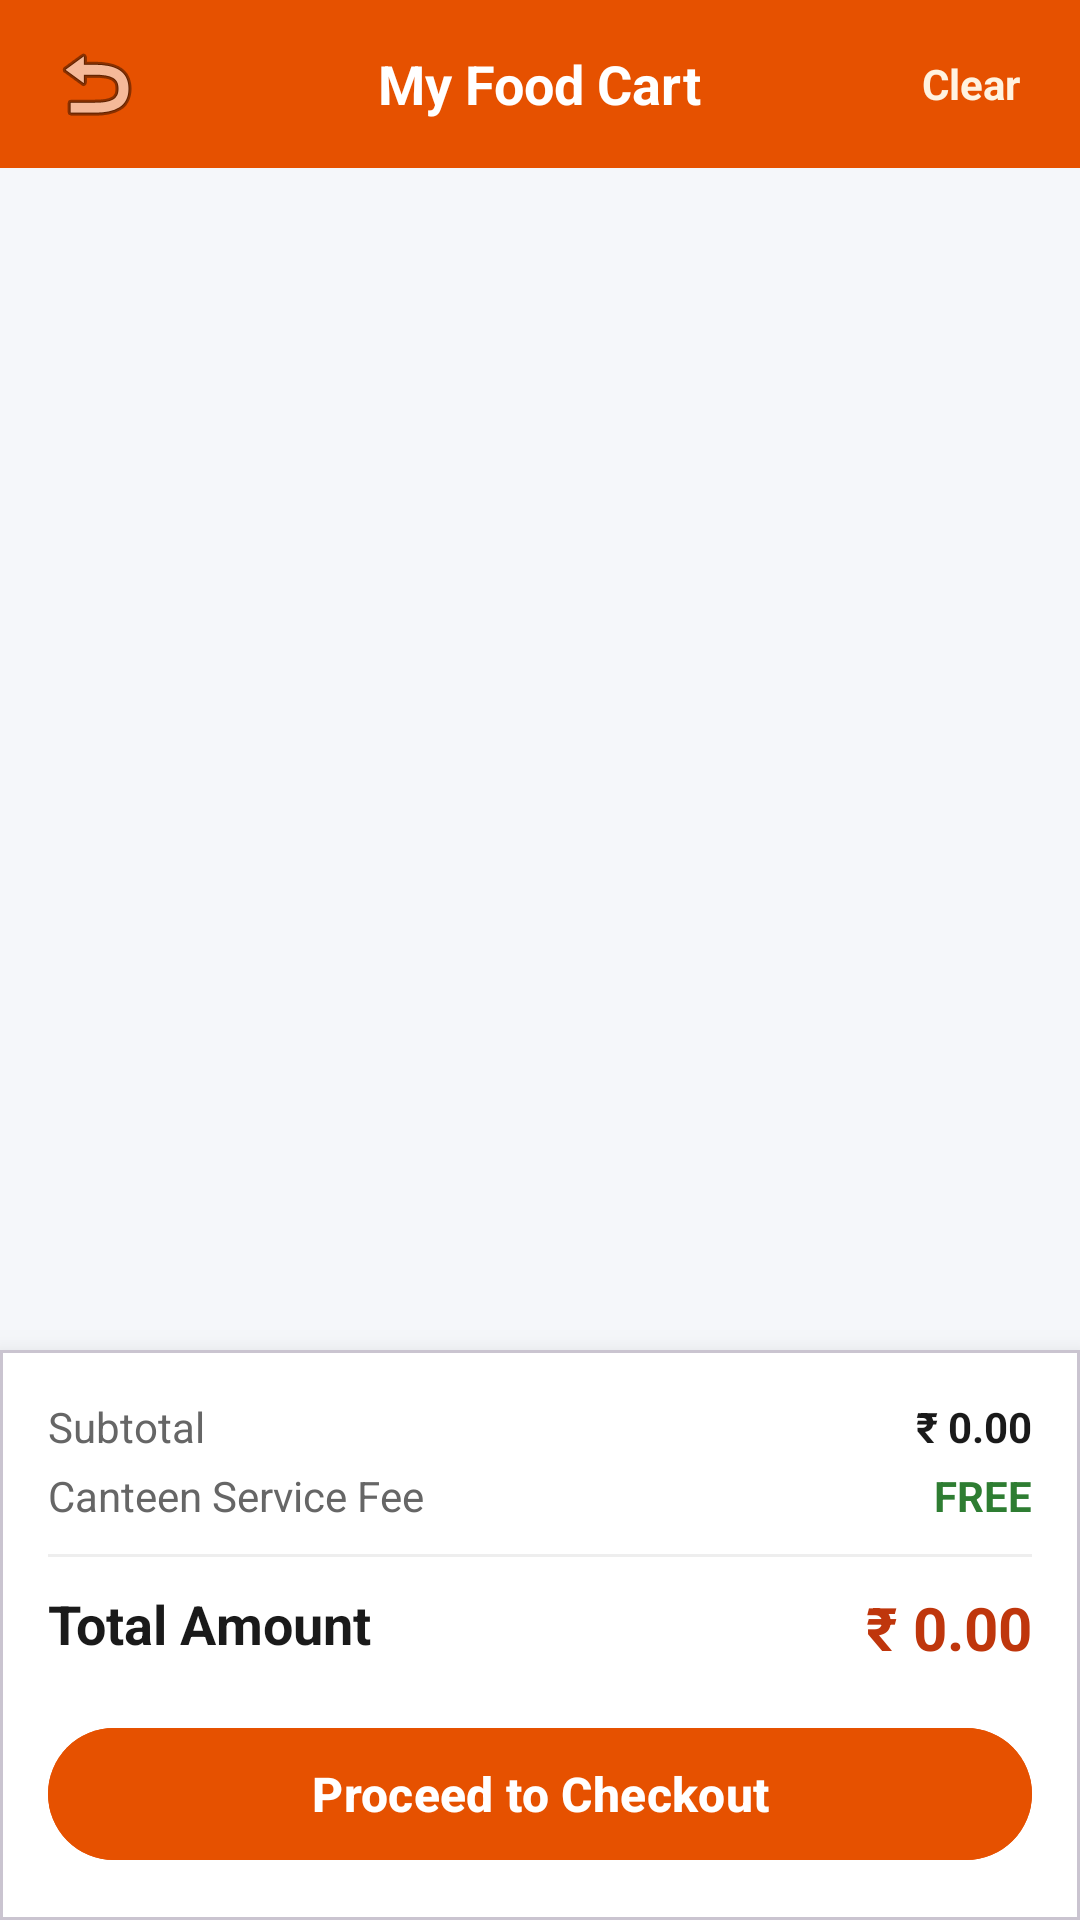

Icon bounding boxes for this 1080 x 1920 phone screenshot, format BBox(x1, y1, x2, y2):
Back: BBox(63, 53, 132, 116)
